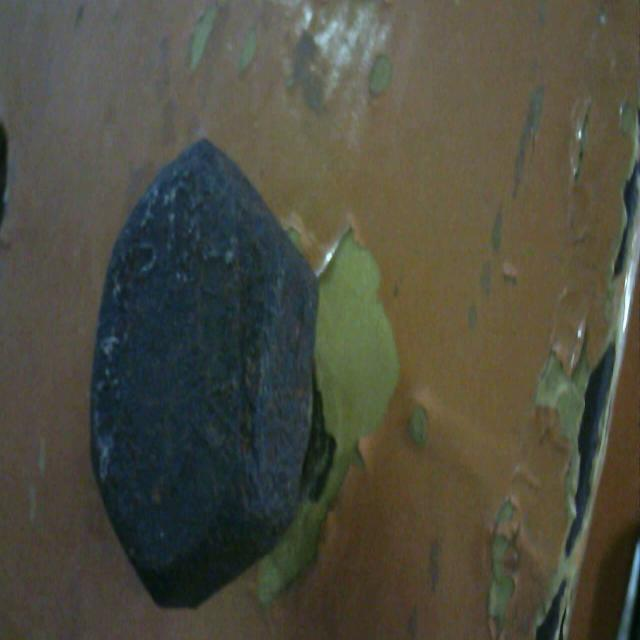Loose bolt: (101, 160, 337, 591)
Rusty bolt: (89, 138, 326, 602)
